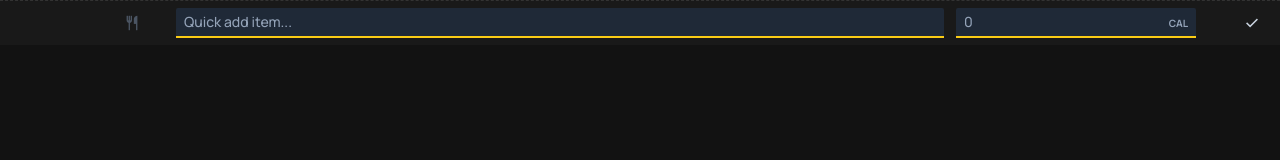
QuickAdd › toggles type between FOOD and EXERCISE
What coordinates should you click on to do the following:
click the button titled "Current type: FOOD. Click to toggle."
I would click on:
 (132, 23)
Its box is [116,7,148,39].
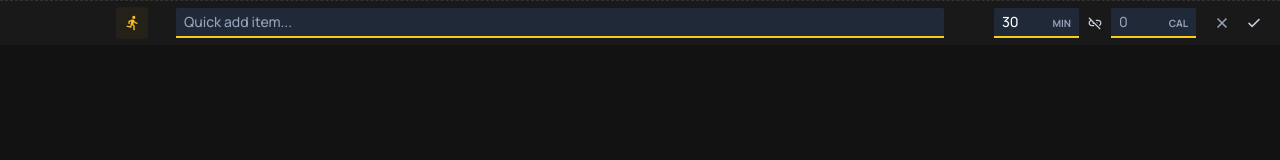
Result: the button titled "Current type: EXERCISE. Click to toggle." is shown at [116,7,148,39]
Result: the number field named "Minutes" holds "30" at [994,8,1079,38]
